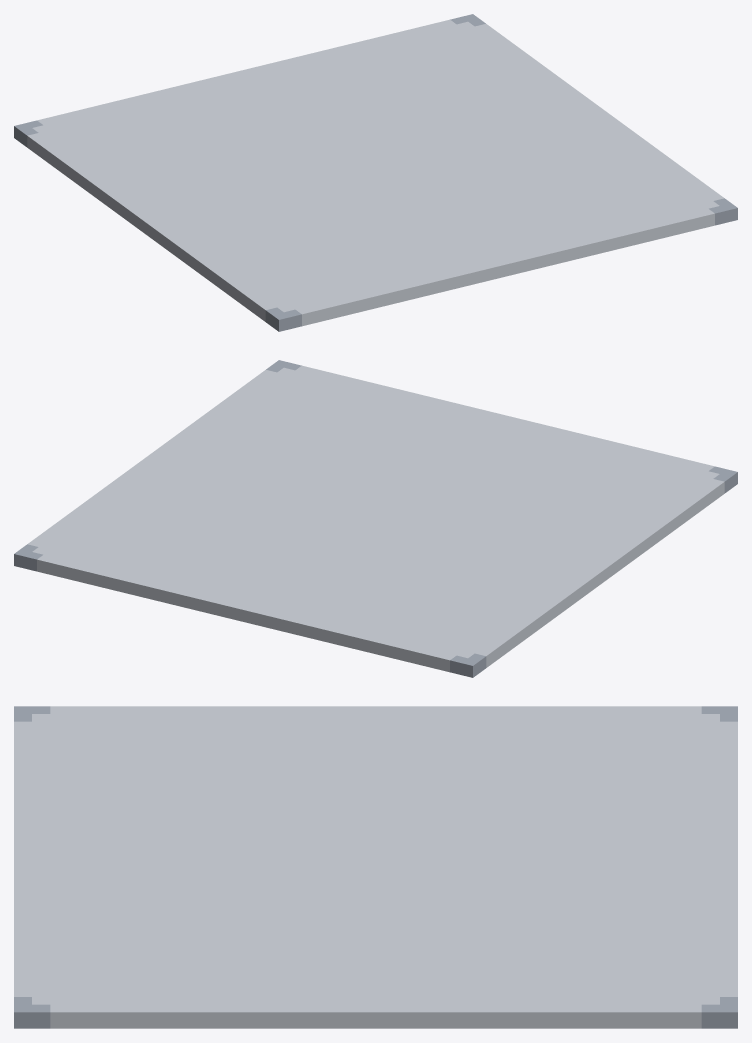
File: ceiling-hallway.obj
3 views of the same model, one above another, from view 1: azimuth 30°, elevation 25°; view 2: azimuth 150°, elevation 25°; view 3: azimuth 270°, elevation 25° (orthographic). The views are drawn at different scales.
Bounding box in the file's own units: 4 × 0.1 × 4.
1 material, 1 textured.
